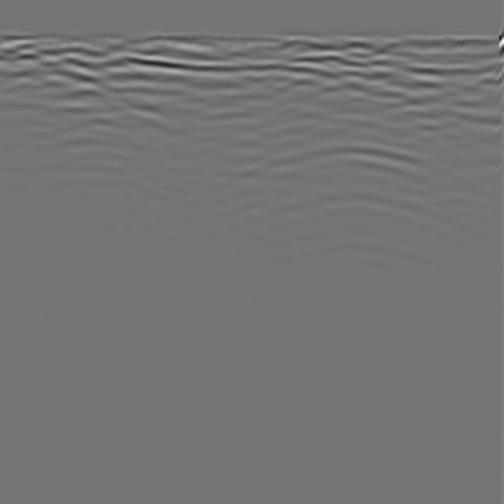hyperbola: (219, 134, 481, 287)
